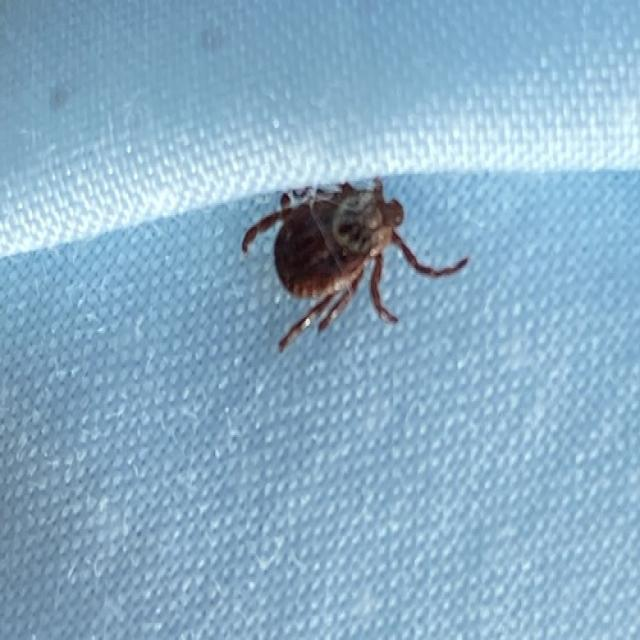Dermacentor Reticulatus-F: (242, 177, 470, 353)
